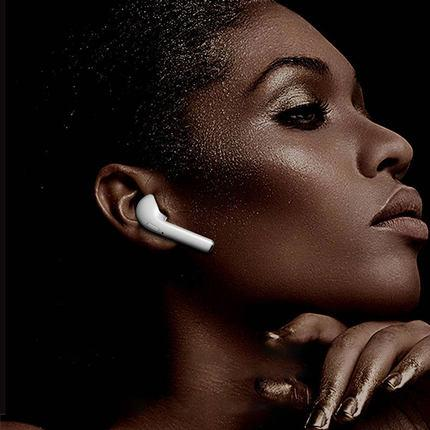earphone: (122, 184, 228, 259)
